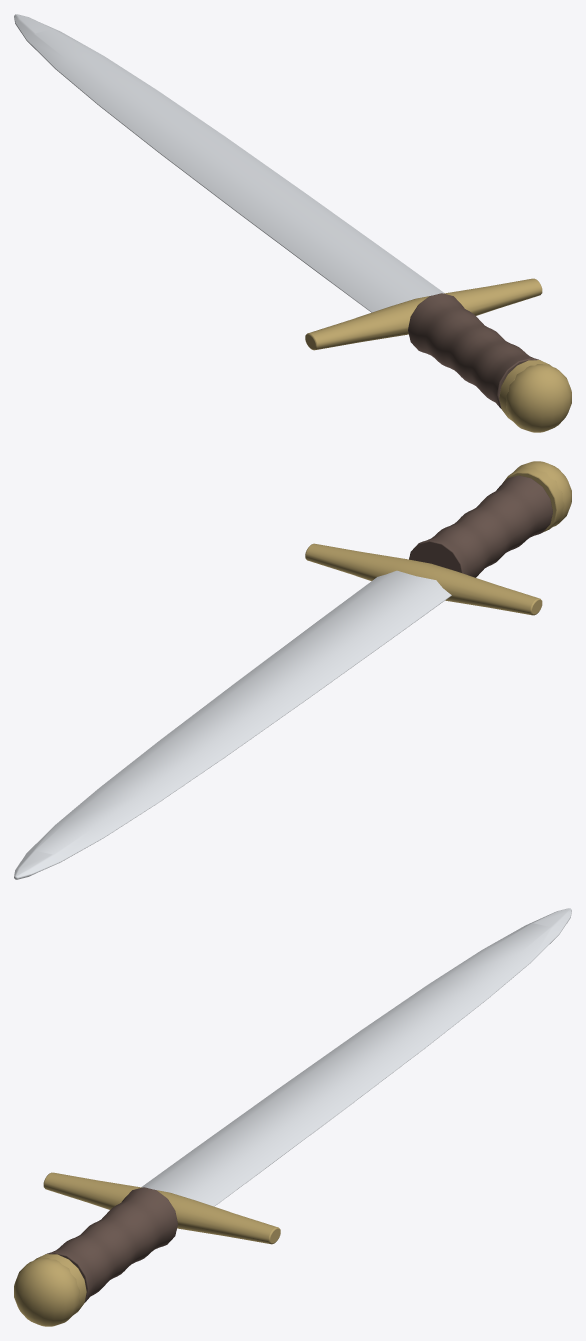
The model's file is sword.glb.
3 views of the same model, one above another, from view 1: azimuth 30°, elevation 25°; view 2: azimuth 150°, elevation 25°; view 3: azimuth 330°, elevation 25° (orthographic).
Visible parts, largest first — view 1: Sword; view 2: Sword; view 3: Sword.
Boxes of the visible parts, box(x1,y1,x2,y2) form: Sword: box(14, 14, 571, 432); Sword: box(14, 461, 571, 879); Sword: box(14, 908, 571, 1326).
Bounding box in the file's own units: 0.2 × 0.0536 × 0.8225.
